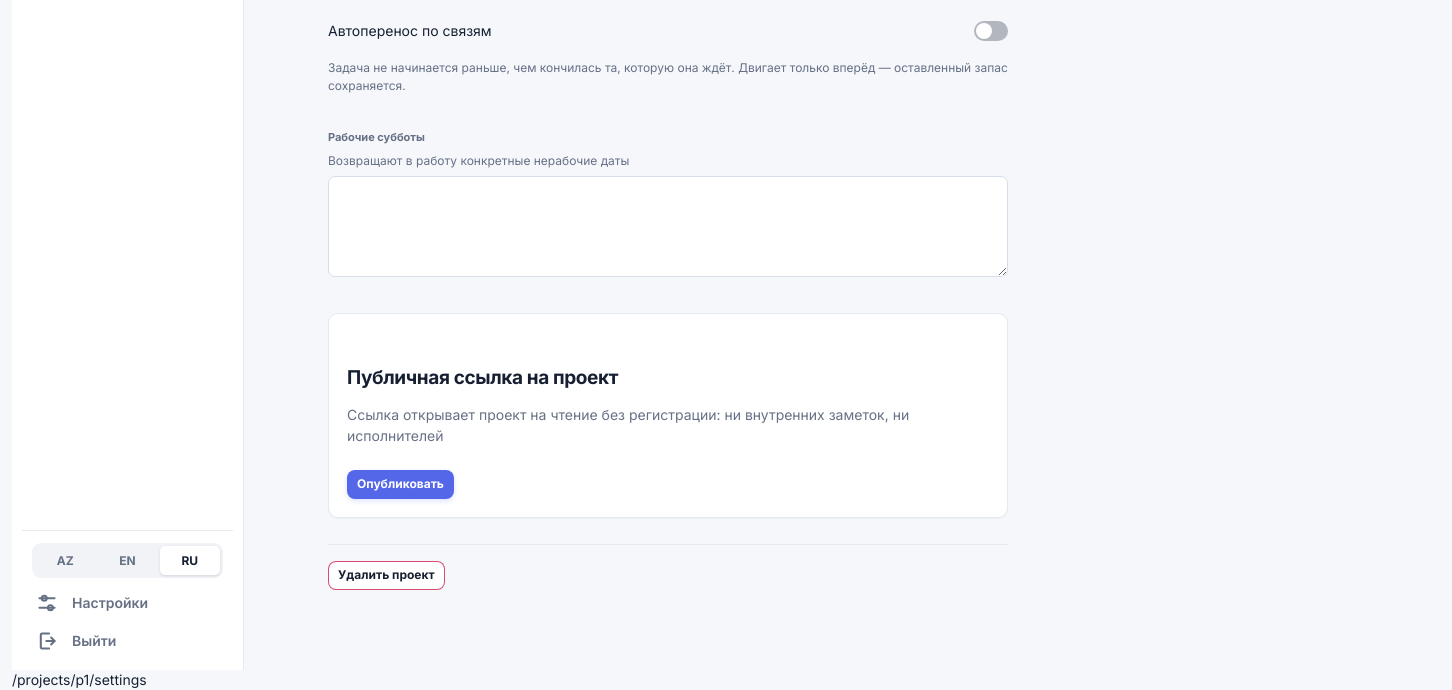
Test case: удаление проекта › владелец удаляет проект после подтверждения и попадает к списку
(page scrolled)
Click the button "Удалить проект". click: (386, 575)
box: [328,561,445,590]
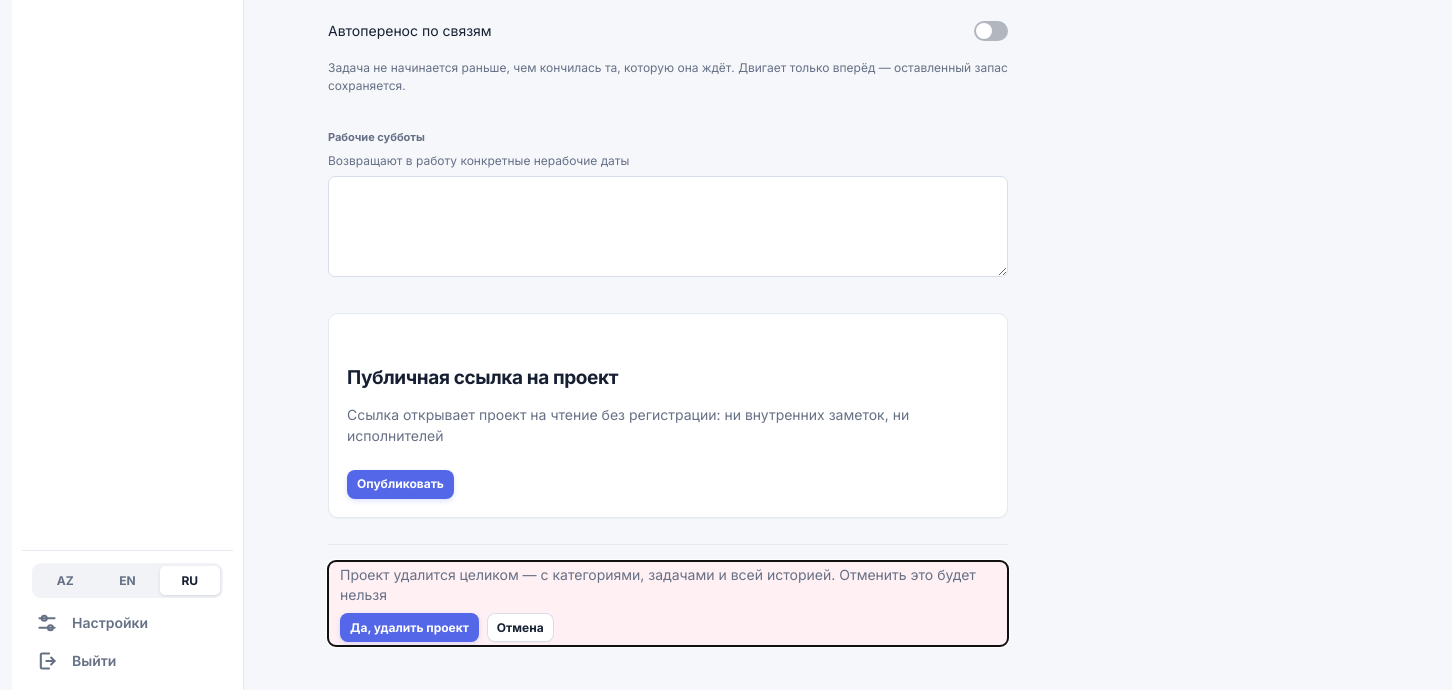
Now the text "отменить это будет нельзя" is shown, box [340,566,976,603]
Click the button "Да, удалить проект". click: (409, 628)
box: [340,613,479,642]
(page scrolled)
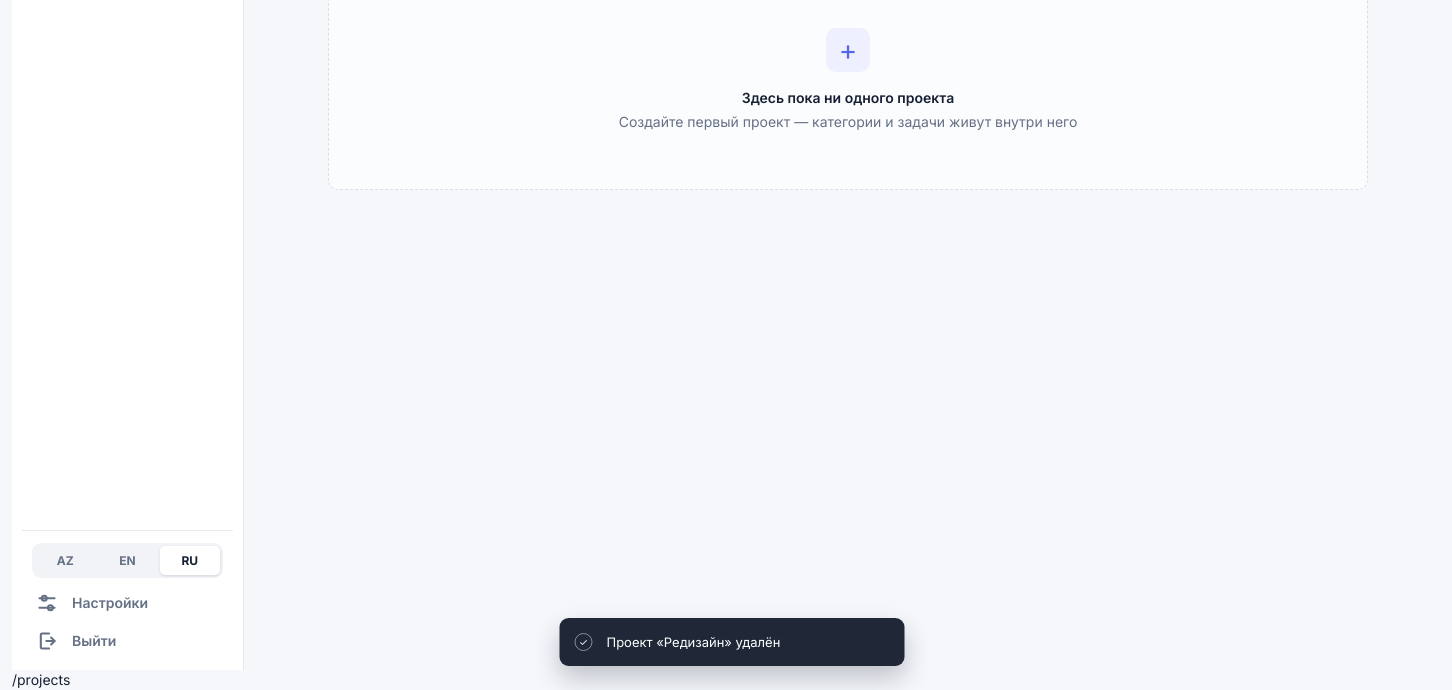
Now the text with test id "location" reads "/projects", box [12,671,70,688]
